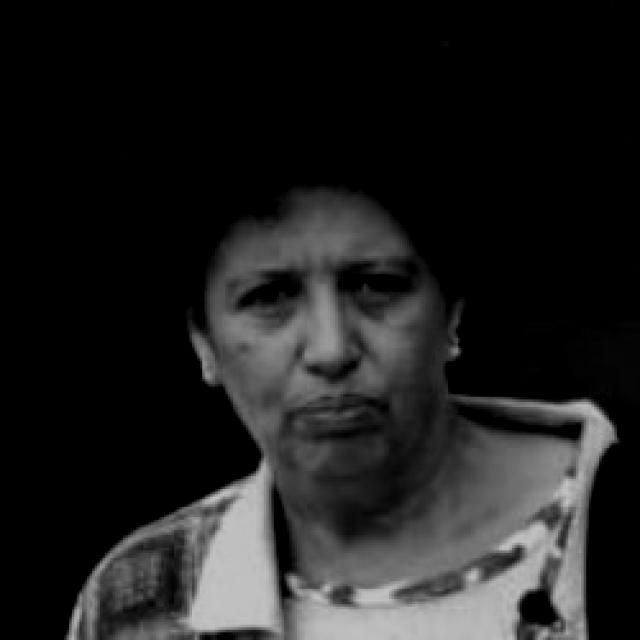real: (140, 48, 482, 494), (221, 273, 432, 324)
